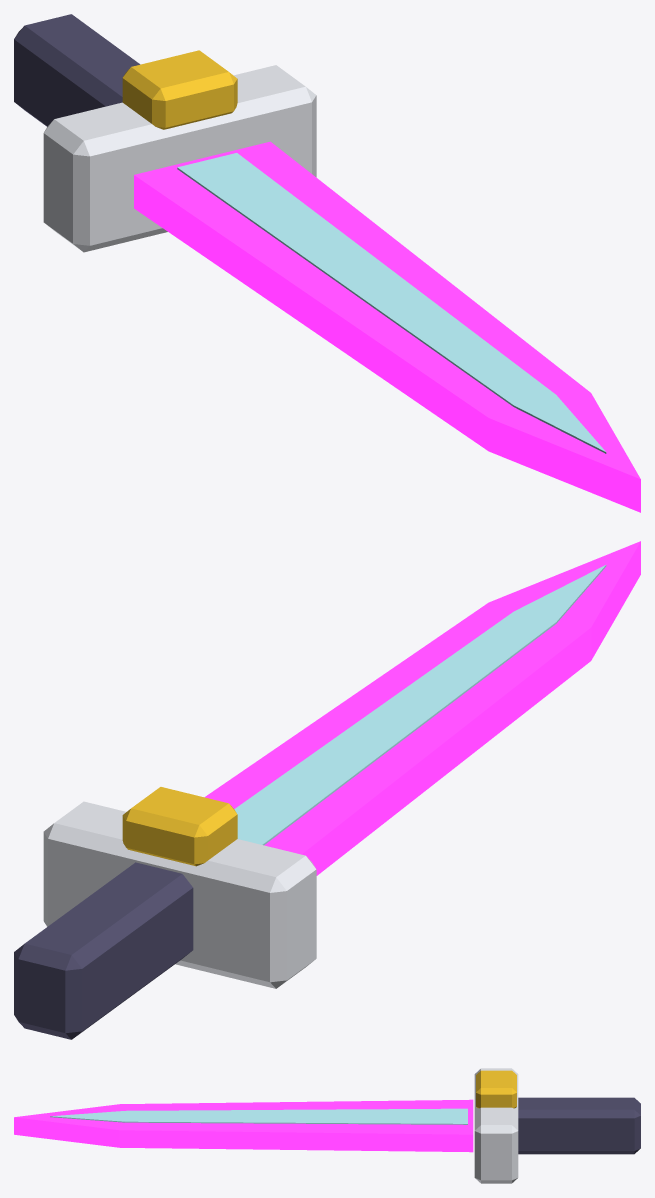
The model's file is Future_Sword_v002.fbx.
3 views of the same model, one above another, from view 1: azimuth 30°, elevation 25°; view 2: azimuth 150°, elevation 25°; view 3: azimuth 270°, elevation 25° (orthographic). The views are drawn at different scales.
Visible parts, largest first — view 1: Future_Sword__RECEIVER_MESH; view 2: Future_Sword__RECEIVER_MESH; view 3: Future_Sword__RECEIVER_MESH.
Part boxes in pixels (x1,y1,x2,y2): Future_Sword__RECEIVER_MESH: [14, 14, 640, 512]; Future_Sword__RECEIVER_MESH: [14, 541, 640, 1039]; Future_Sword__RECEIVER_MESH: [14, 1068, 640, 1183].
Size of the model in its own units: 0.57 by 0.325 by 2.43.
